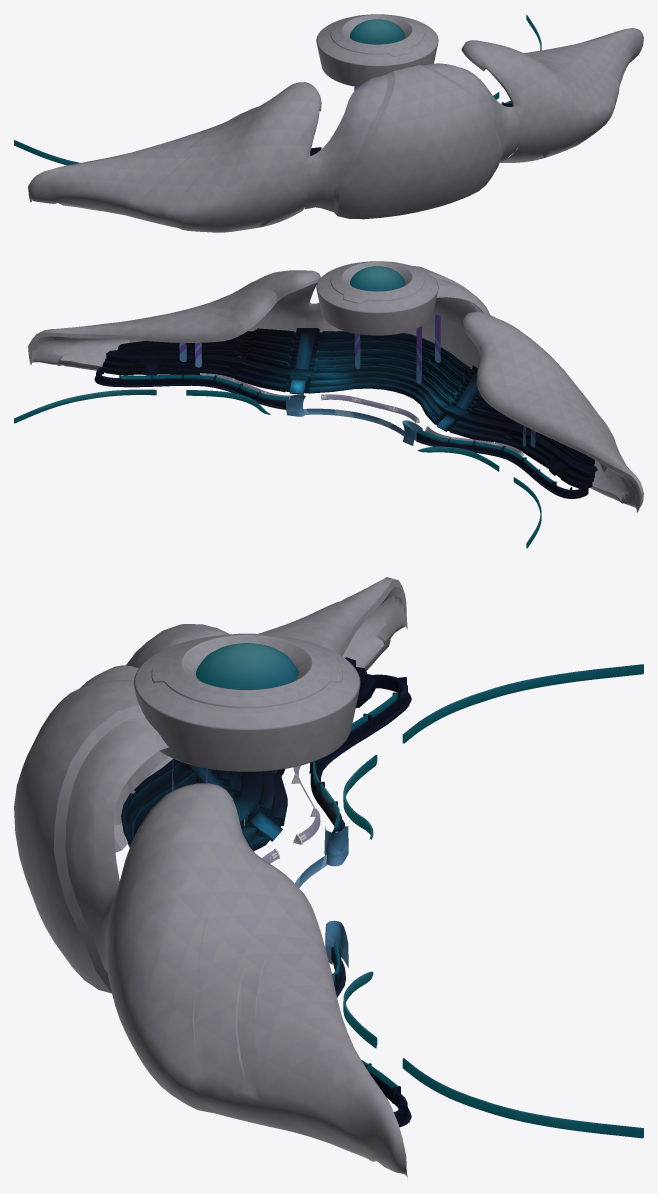
The model's file is pref_sm_4v4pointbake_WSJ_CSD_S_lv1.fbx.
The picture shows the model from 3 angles, top to bottom: view 1: azimuth 30°, elevation 25°; view 2: azimuth 150°, elevation 25°; view 3: azimuth 270°, elevation 25°; orthographic projection. The views are drawn at different scales.
Parts seen in each view (by area): view 1: sm_4v4pointbake_WSJ_CSD_S_f_lv1, sm_4v4pointbake_WSJ_CSD_S_e_lv1, sm_4v4pointbake_WSJ_CSD_S_i_lv1; view 2: sm_4v4pointbake_WSJ_CSD_S_f_lv1, sm_4v4pointbake_WSJ_CSD_S_h_lv1, sm_4v4pointbake_WSJ_CSD_S_e_lv1, sm_4v4pointbake_WSJ_CSD_S_i_lv1, sm_4v4pointbake_WSJ_CSD_S_c_lv1, sm_4v4pointbake_WSJ_CSD_S_d_lv1, sm_4v4pointbake_WSJ_CSD_S_g_lv1, sm_4v4pointbake_WSJ_CSD_S_a_lv1; view 3: sm_4v4pointbake_WSJ_CSD_S_f_lv1, sm_4v4pointbake_WSJ_CSD_S_e_lv1, sm_4v4pointbake_WSJ_CSD_S_i_lv1, sm_4v4pointbake_WSJ_CSD_S_h_lv1, sm_4v4pointbake_WSJ_CSD_S_c_lv1, sm_4v4pointbake_WSJ_CSD_S_d_lv1.
Part boxes in pixels (x1,y1,x2,y2): sm_4v4pointbake_WSJ_CSD_S_f_lv1: (28, 28, 643, 232); sm_4v4pointbake_WSJ_CSD_S_e_lv1: (316, 14, 438, 87); sm_4v4pointbake_WSJ_CSD_S_i_lv1: (14, 15, 541, 165); sm_4v4pointbake_WSJ_CSD_S_f_lv1: (28, 266, 643, 512); sm_4v4pointbake_WSJ_CSD_S_h_lv1: (102, 328, 597, 488); sm_4v4pointbake_WSJ_CSD_S_e_lv1: (316, 261, 438, 335); sm_4v4pointbake_WSJ_CSD_S_i_lv1: (14, 374, 553, 548); sm_4v4pointbake_WSJ_CSD_S_c_lv1: (94, 367, 588, 498); sm_4v4pointbake_WSJ_CSD_S_d_lv1: (286, 394, 422, 445); sm_4v4pointbake_WSJ_CSD_S_g_lv1: (179, 314, 535, 447); sm_4v4pointbake_WSJ_CSD_S_a_lv1: (200, 373, 524, 456); sm_4v4pointbake_WSJ_CSD_S_f_lv1: (14, 577, 407, 1177); sm_4v4pointbake_WSJ_CSD_S_e_lv1: (133, 633, 360, 771); sm_4v4pointbake_WSJ_CSD_S_i_lv1: (313, 664, 643, 1138); sm_4v4pointbake_WSJ_CSD_S_h_lv1: (121, 657, 376, 851); sm_4v4pointbake_WSJ_CSD_S_c_lv1: (309, 674, 411, 1127); sm_4v4pointbake_WSJ_CSD_S_d_lv1: (295, 826, 348, 967).
Size of the model in its own units: 126 by 29.79 by 60.12.
